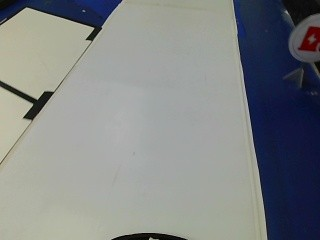battery: (285, 13, 320, 61)
